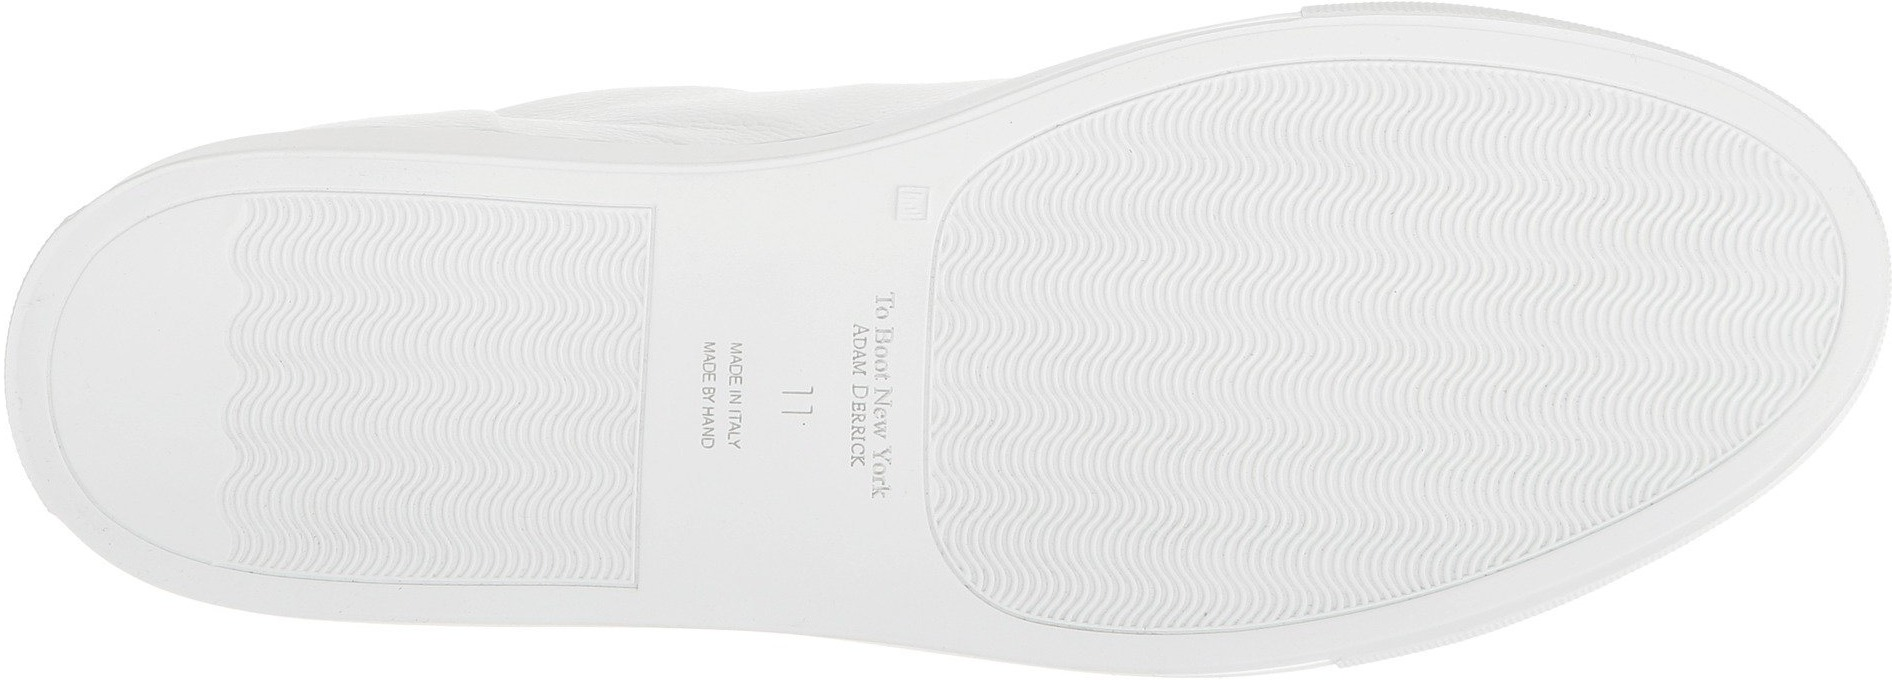chevron: (1464, 109, 1721, 388), (1186, 92, 1458, 348), (1192, 354, 1433, 592), (424, 213, 643, 449), (948, 215, 1189, 424), (237, 207, 438, 397), (965, 428, 1158, 615), (249, 401, 424, 588), (1443, 383, 1600, 534), (462, 452, 594, 581), (1088, 119, 1182, 213)
other: (74, 307, 230, 469), (666, 462, 818, 625), (668, 181, 823, 334)
quad: (878, 176, 938, 238)
text: (689, 342, 819, 459), (821, 285, 913, 387), (829, 391, 913, 475), (878, 176, 938, 238)
